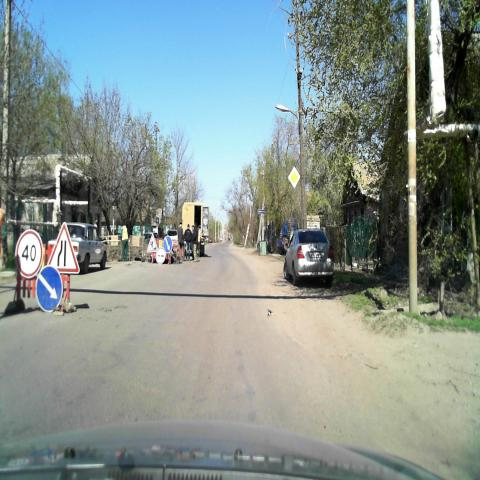1_20_3: (48, 222, 80, 274)
1_25: (146, 233, 158, 252)
3_20: (156, 247, 166, 265)
